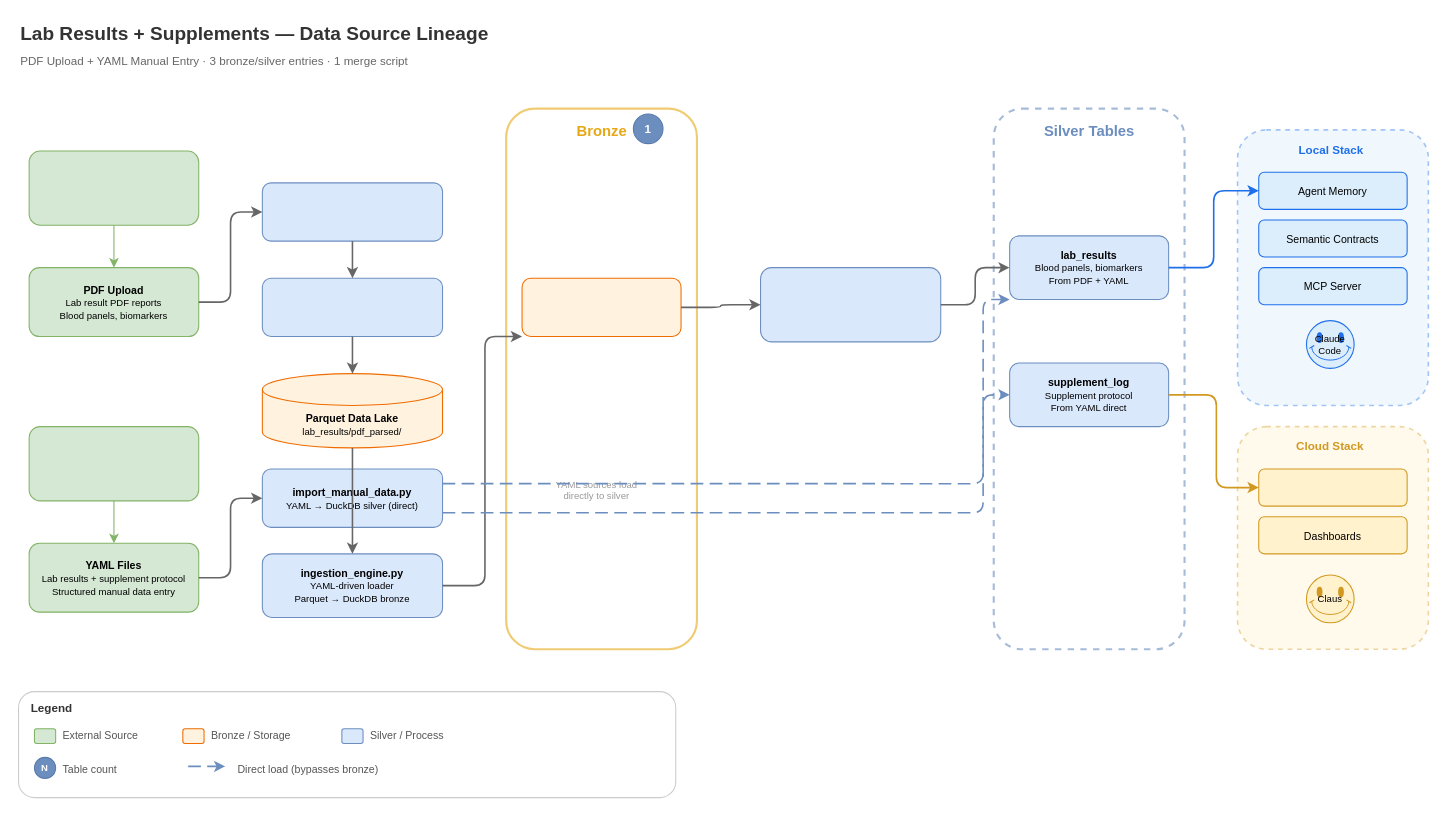
The diagram is 1448 pixels wide and 816 high, and some of its shapes have lost their labels. The shapes that lost their labels are listed below. From the top down, each one's centre as x and y in pixels, then its label:
pixel 113 187: GetTested Lab Test Provider
pixel 352 211: lab_ingestion.py PDF processing orchestrator
pixel 352 307: pdf_parser.py PDF → structured biomarker data
pixel 601 307: stg_lab_pdf_results Parsed PDF biomarker results
pixel 850 304: 1 Merge SQL Script merge_lab_pdf_results.sql MERGE INTO · source_system = 'lab'
pixel 113 463: Manual Entry YAML Configuration
pixel 1332 487: Unity Catalog
